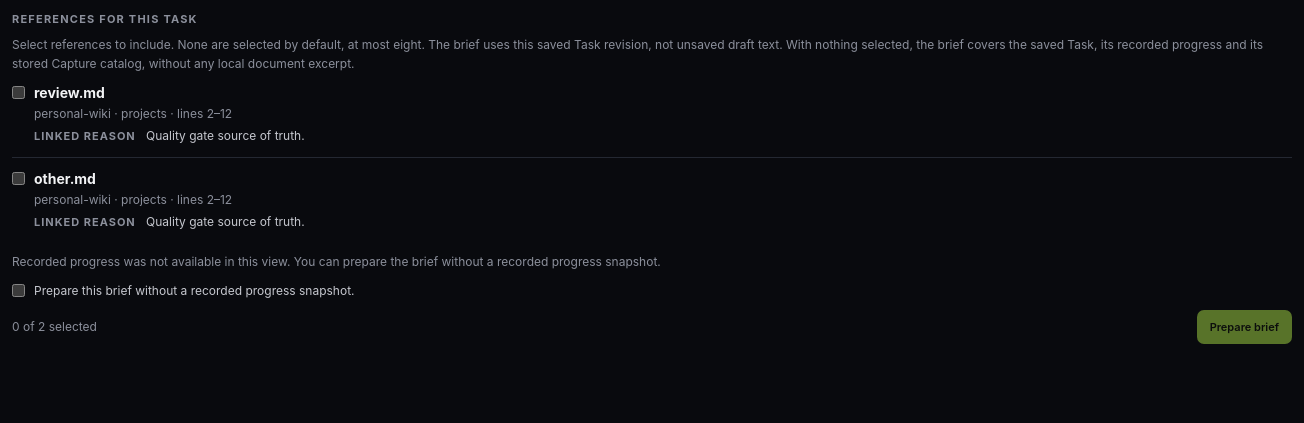
Test: a reference removed after it was listed refuses Prepare and reads nothing
Click the checkbox named "Include review.md from personal-wiki": coordinates (18, 93) [12,86,25,99]
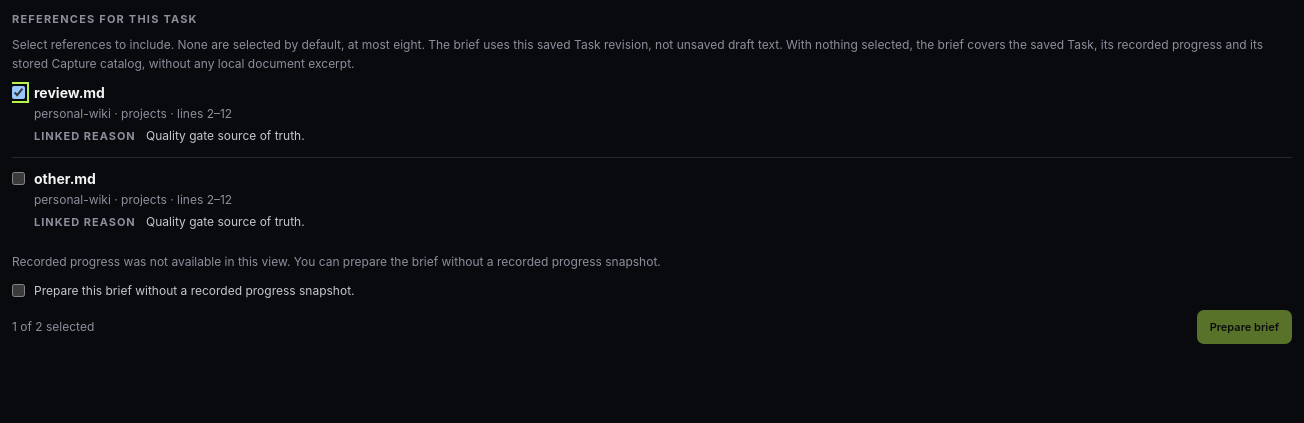
Click the checkbox labelled "Prepare this brief without a recorded progress snapshot.": coordinates (18, 290) [12,284,25,297]
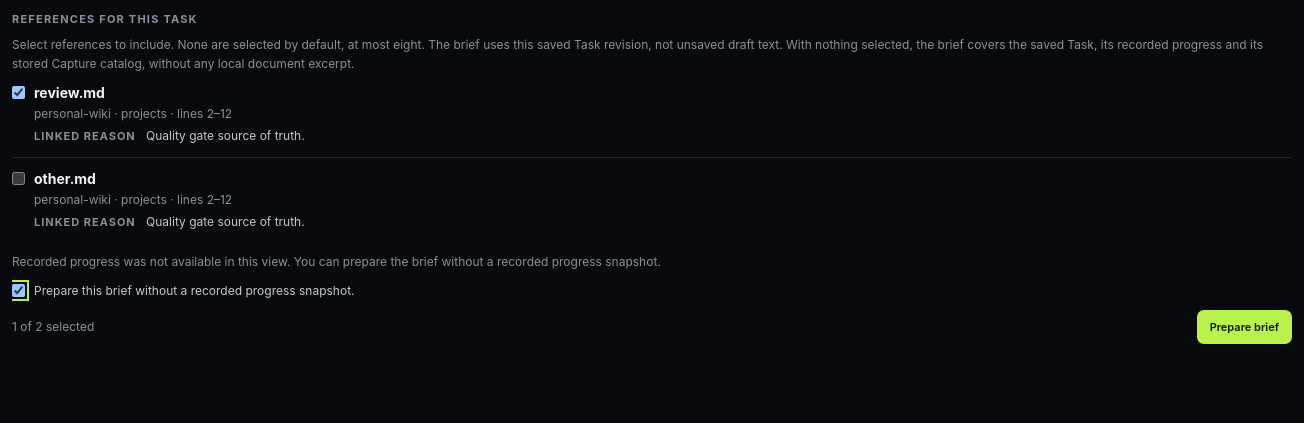
Click the button "Prepare brief": coordinates (1244, 327) [1197,310,1292,344]
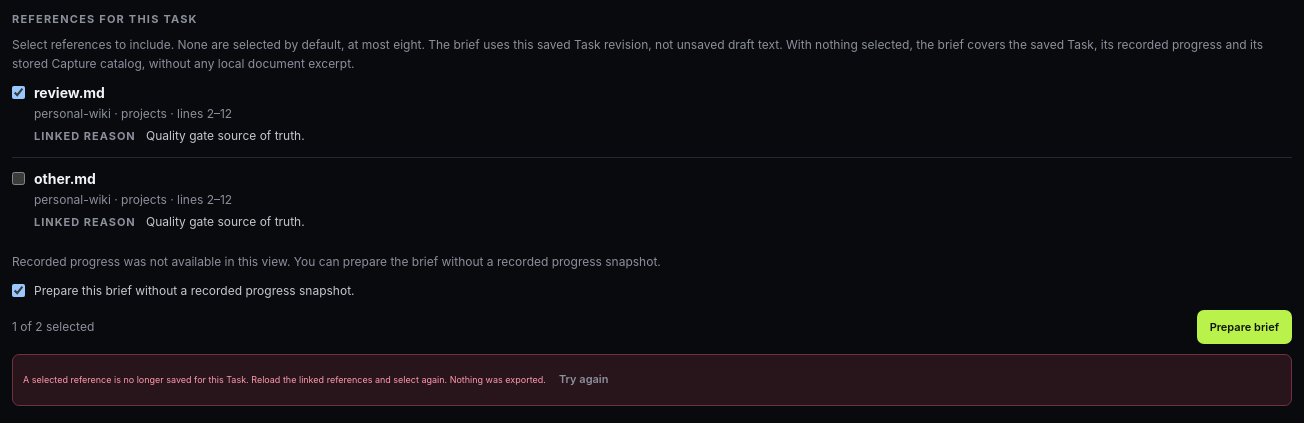
Now the message shows "no longer saved for this Task", box [23,374,546,385]
Click the button "Try again": coordinates (584, 380) [546,363,621,397]
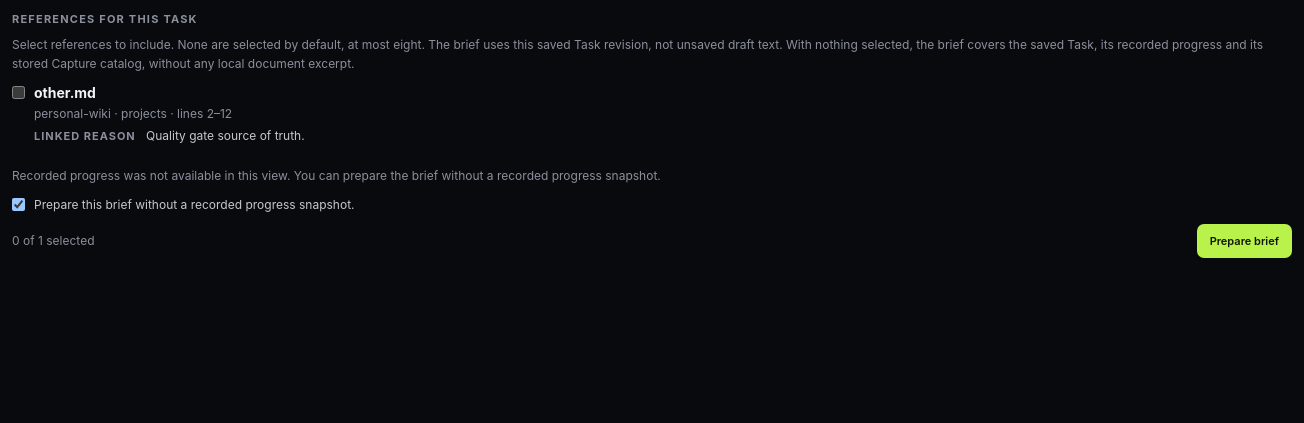
Now the checkbox named "Include other.md from personal-wiki" is not checked, box [12,86,25,99]
